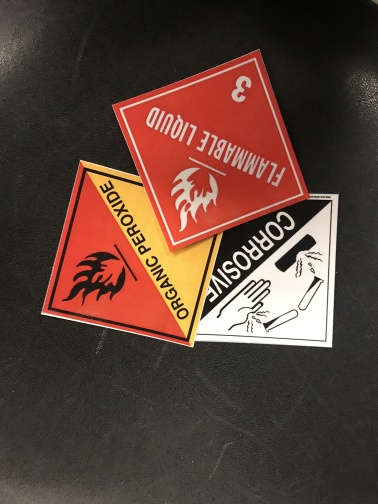Corrosive: (191, 187, 337, 348)
FlammableLiquid: (112, 47, 307, 251)
OrganicPeroxide: (38, 159, 224, 345)
